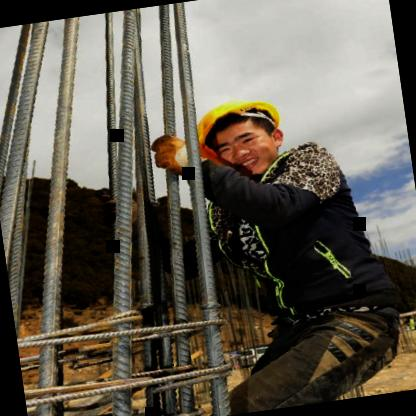helmet: (184, 85, 303, 184)
